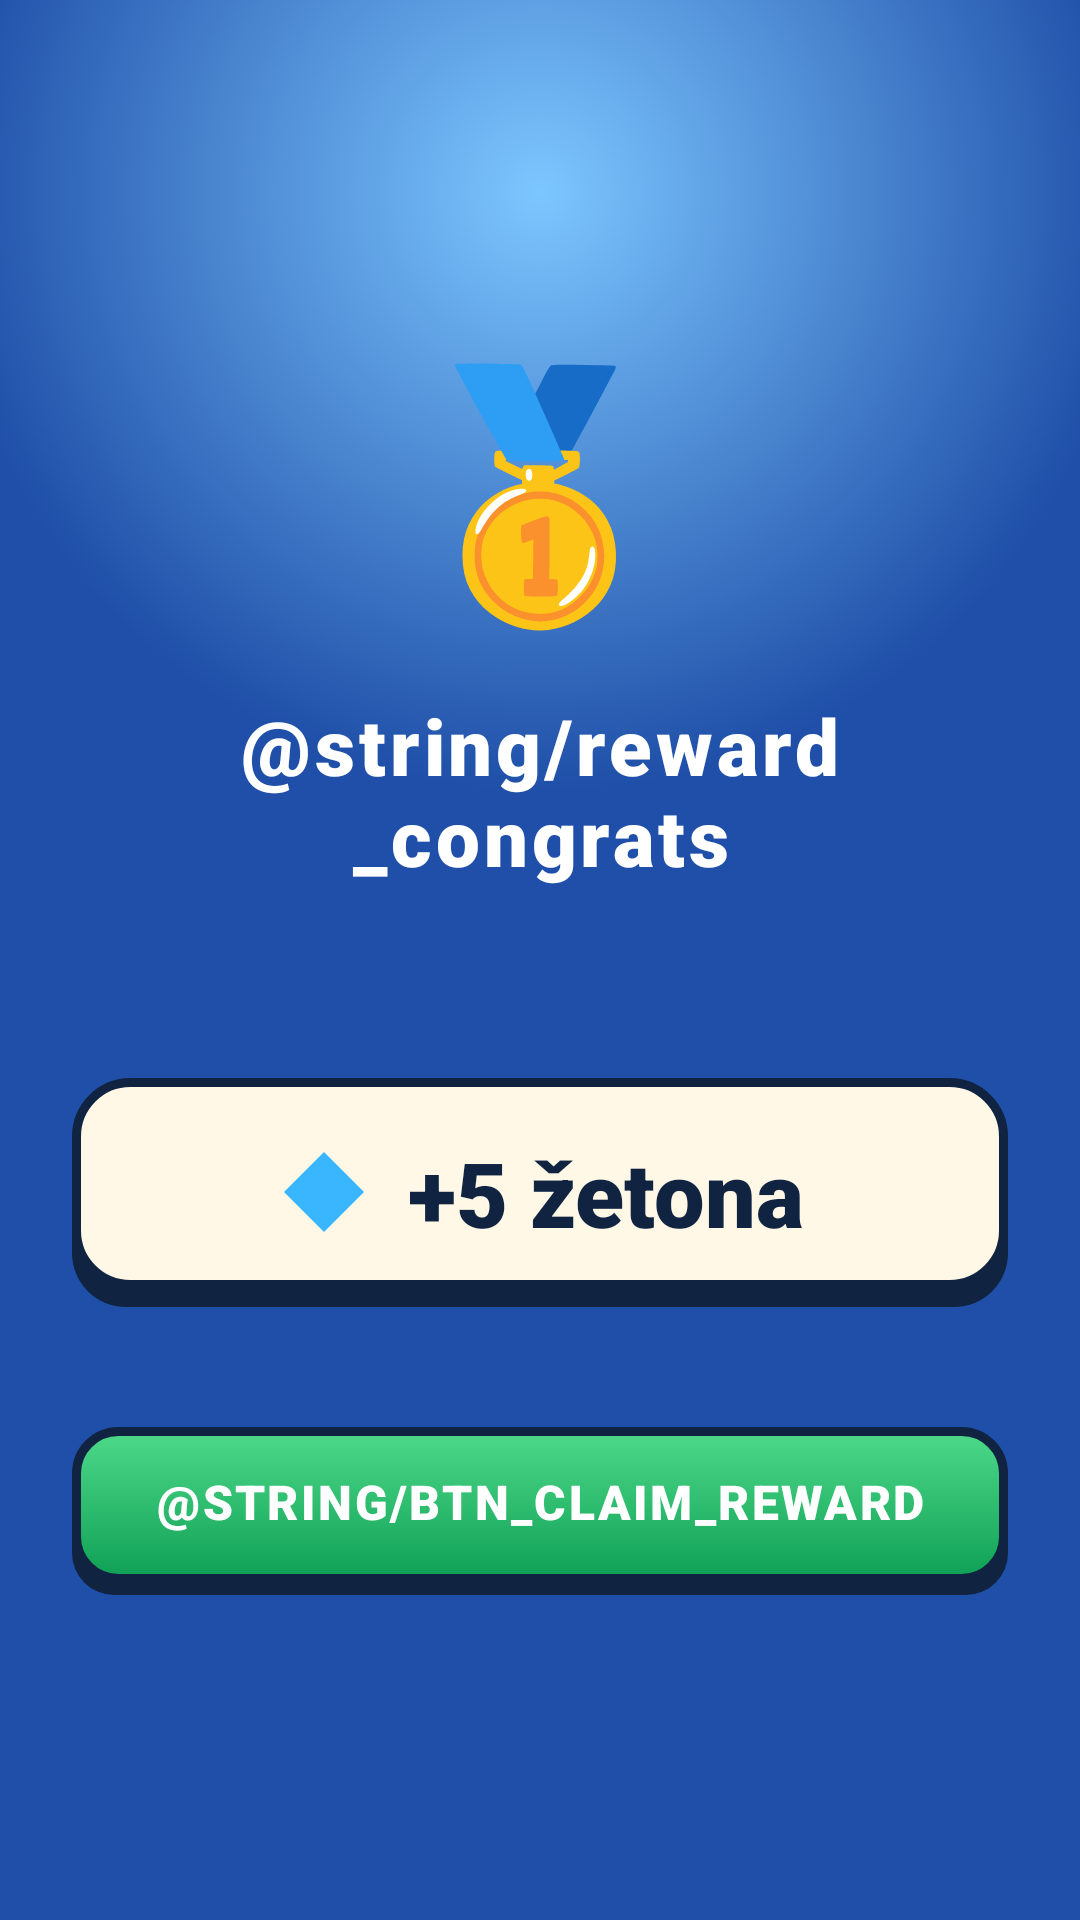

Where to tap for icons on this 1080px x 1920px app screen, as (x,y):
glyph diamond: (324,1192)
